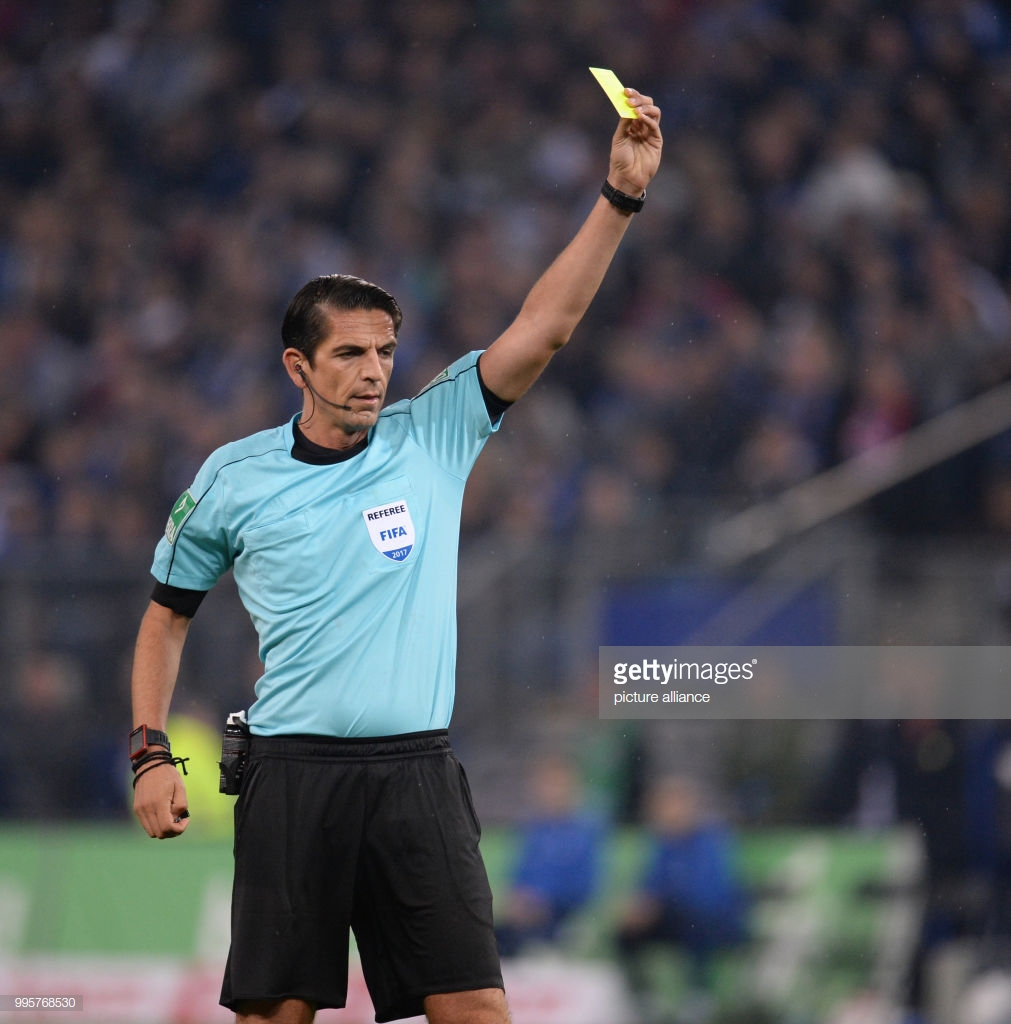yellow_card: (569, 53, 701, 197)
